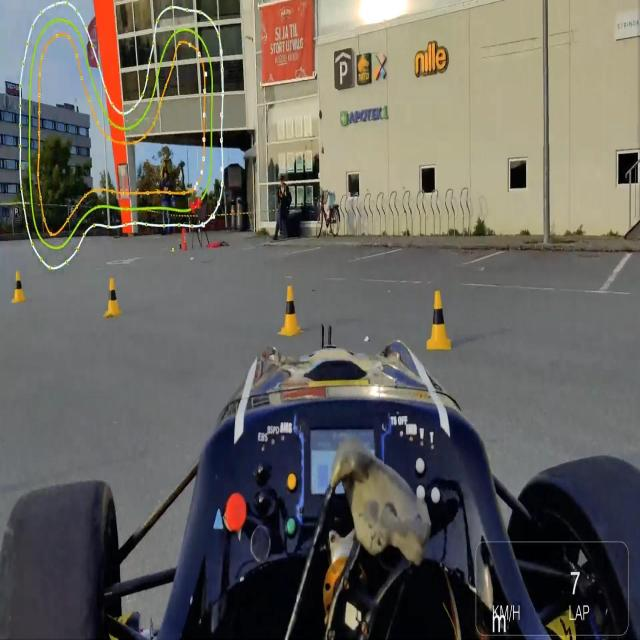yellow_cone: (420, 289, 452, 355), (275, 279, 306, 347), (100, 273, 126, 324), (7, 259, 34, 306)
